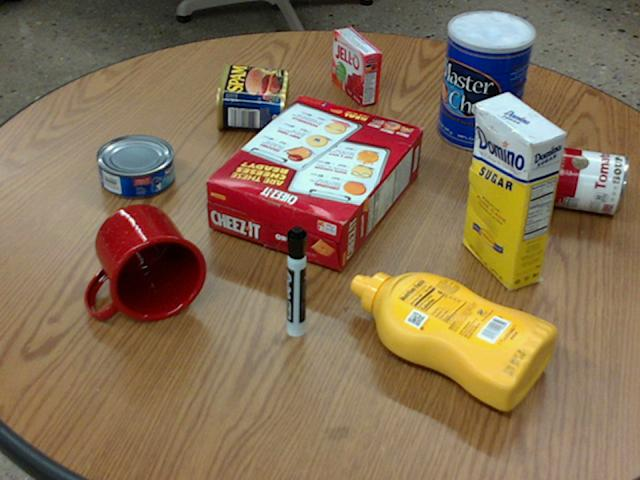cracker_box: (204, 96, 421, 270)
gelatin_box: (332, 27, 381, 104)
large_marker: (285, 225, 306, 336)
master_chef_can: (437, 11, 535, 150)
mug: (84, 204, 204, 321)
mustard_bottle: (350, 272, 555, 409)
potted_meat_can: (215, 61, 288, 129)
sugar_box: (464, 92, 564, 290)
tomato_soup_can: (524, 142, 625, 212)
tuna_fish_can: (96, 133, 173, 196)
